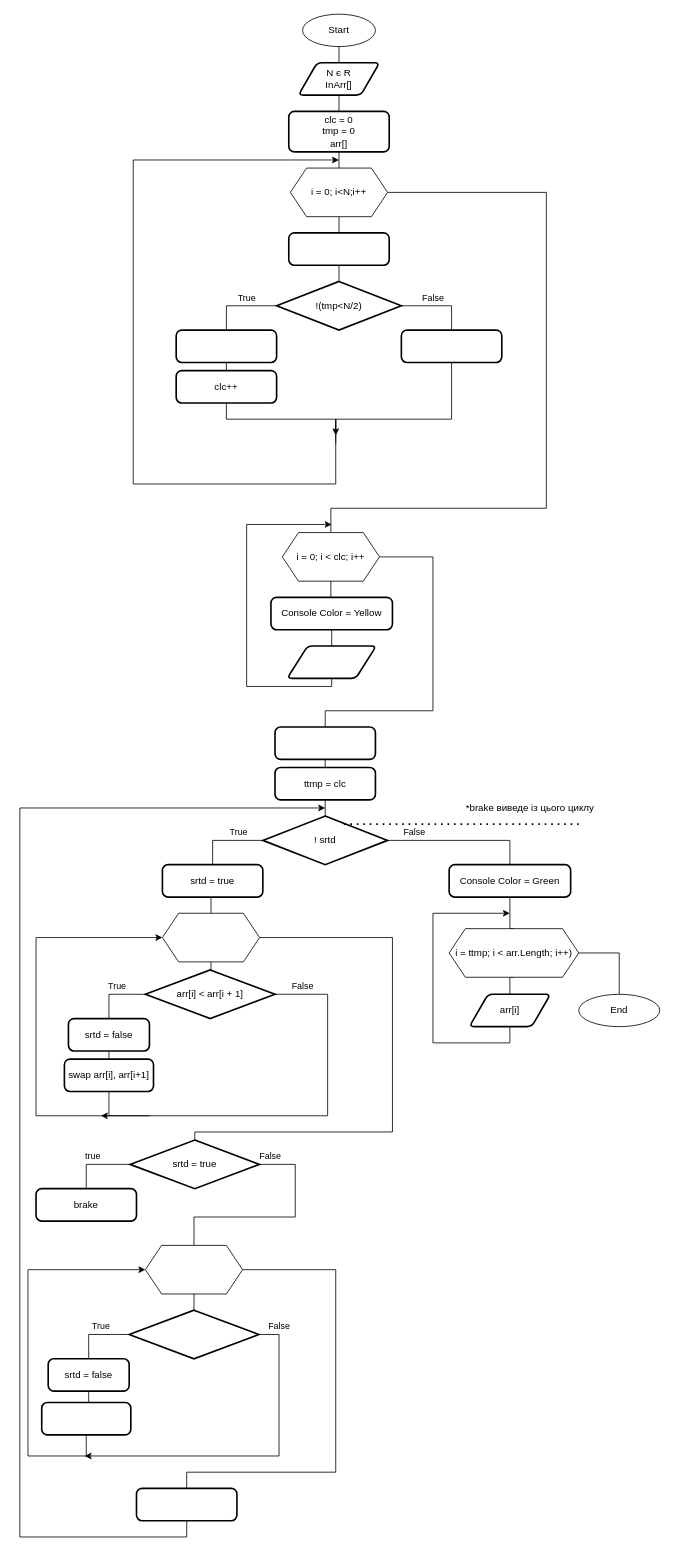
Image size: 674x1558. Some labels were removed from this diagram. Here are the shapes that lost their labels. From the top down, the box of each, then its label:
(288, 232, 390, 266): tmp = arr[i]
(175, 329, 277, 363): arr[clc] = InArr[i]
(400, 329, 502, 363): arr[N - 1 - i+clc] = tmp
(286, 645, 377, 679): arr[clc - 1 - i]
(274, 726, 376, 760): srtd1 = false
(162, 912, 260, 962): i = clc; i < N - 1; i++
(145, 1245, 243, 1294): i = N-2; i > clc; i--
(128, 1309, 259, 1359): arr[i-1] < arr[i]
(40, 1401, 131, 1435): swap arr[i], arr[i-1]
(135, 1487, 237, 1521): N-- clc++
